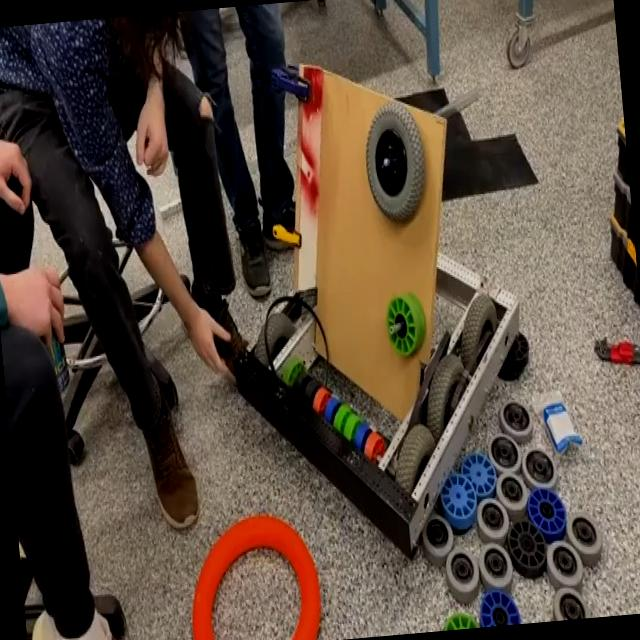note: (180, 505, 326, 640)
